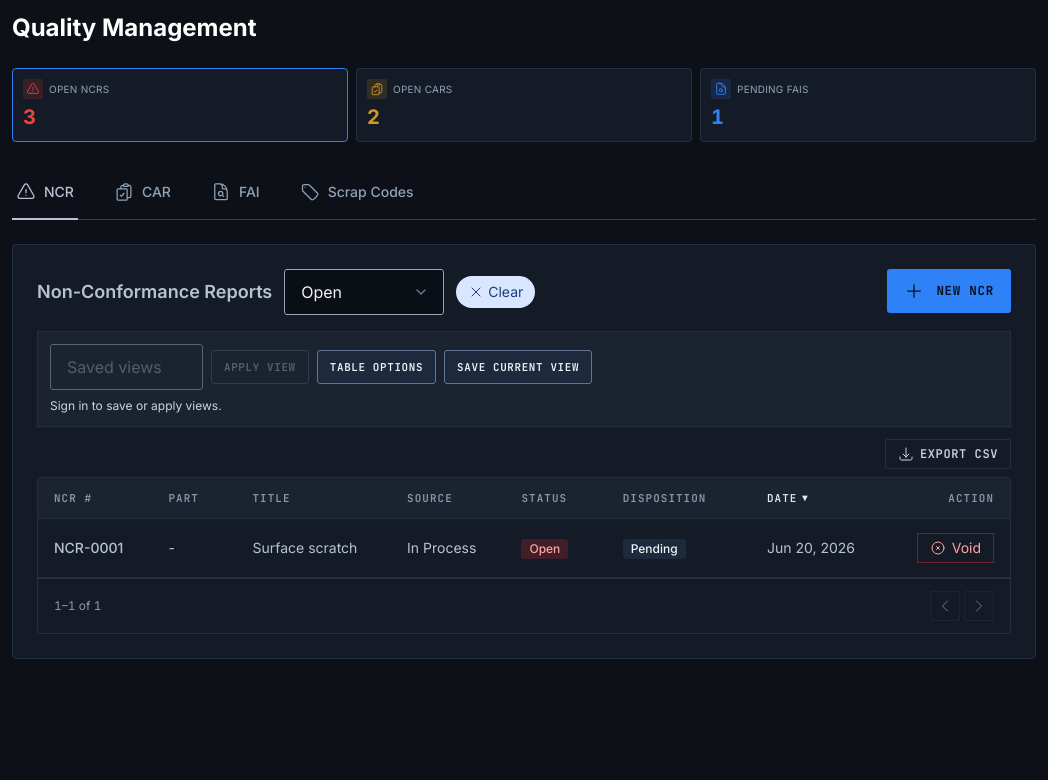
Quality cockpit MiniStat strip › clicking the Open NCRs tile applies the open filter (active + closed row hidden)
Expected: the text "NCR-0001" is shown, [38,519,152,578]
Expected: the text "NCR-0002" is not shown
Select "All Status" in the dropdown named "NCR status" at (364, 292), box [284,269,444,315]
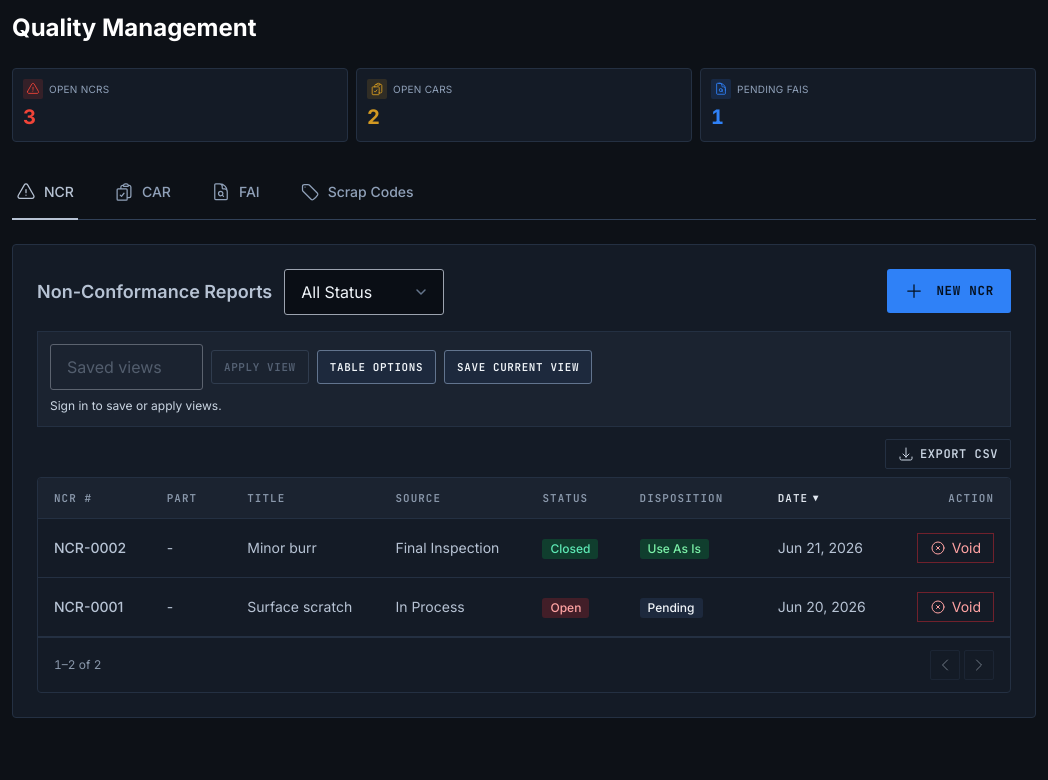
Now the text "NCR-0002" is shown, box [38,519,151,578]
Click the button "Open NCRs 3".
click(180, 105)  # box [12,68,348,142]
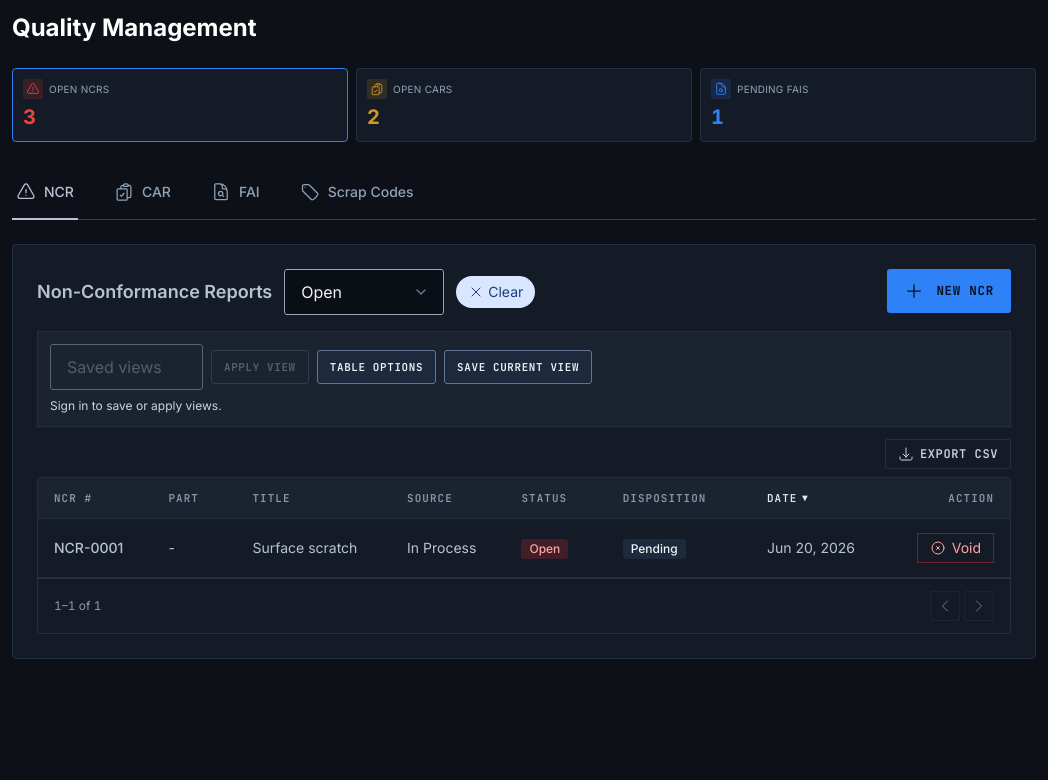
Expected: the text "NCR-0001" is shown, [38,519,152,578]
Now the text "NCR-0002" is gone
